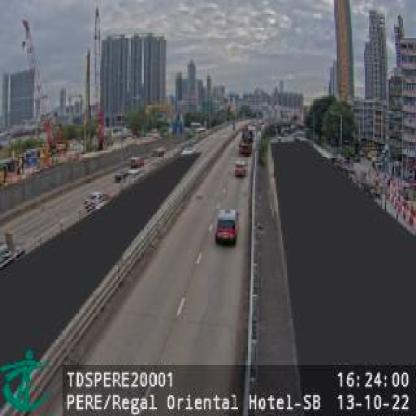Car: (214, 206, 239, 247), (233, 158, 246, 178), (128, 155, 143, 171), (114, 166, 127, 180)
Truck: (238, 124, 255, 158)
